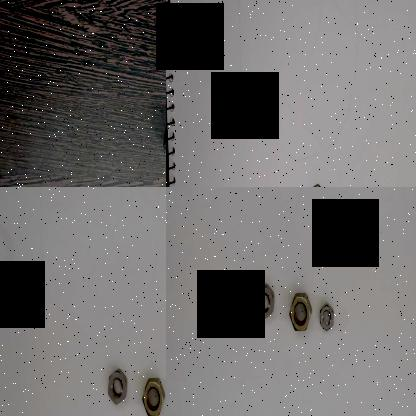NUTS: (101, 366, 128, 412), (287, 288, 311, 336), (250, 279, 276, 321), (140, 371, 164, 416), (316, 297, 335, 339)
